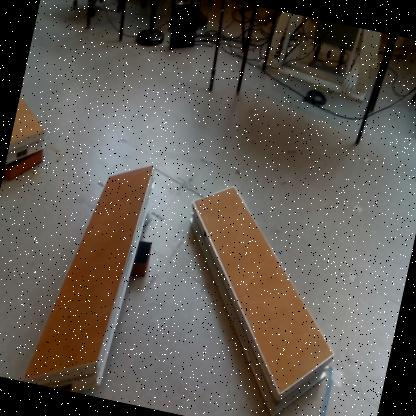Stairs: (191, 184, 336, 416), (21, 164, 154, 394), (5, 96, 47, 168)
